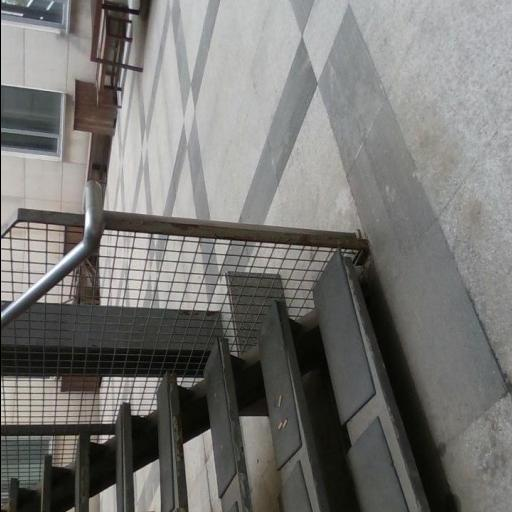stairs: (8, 251, 429, 511)
